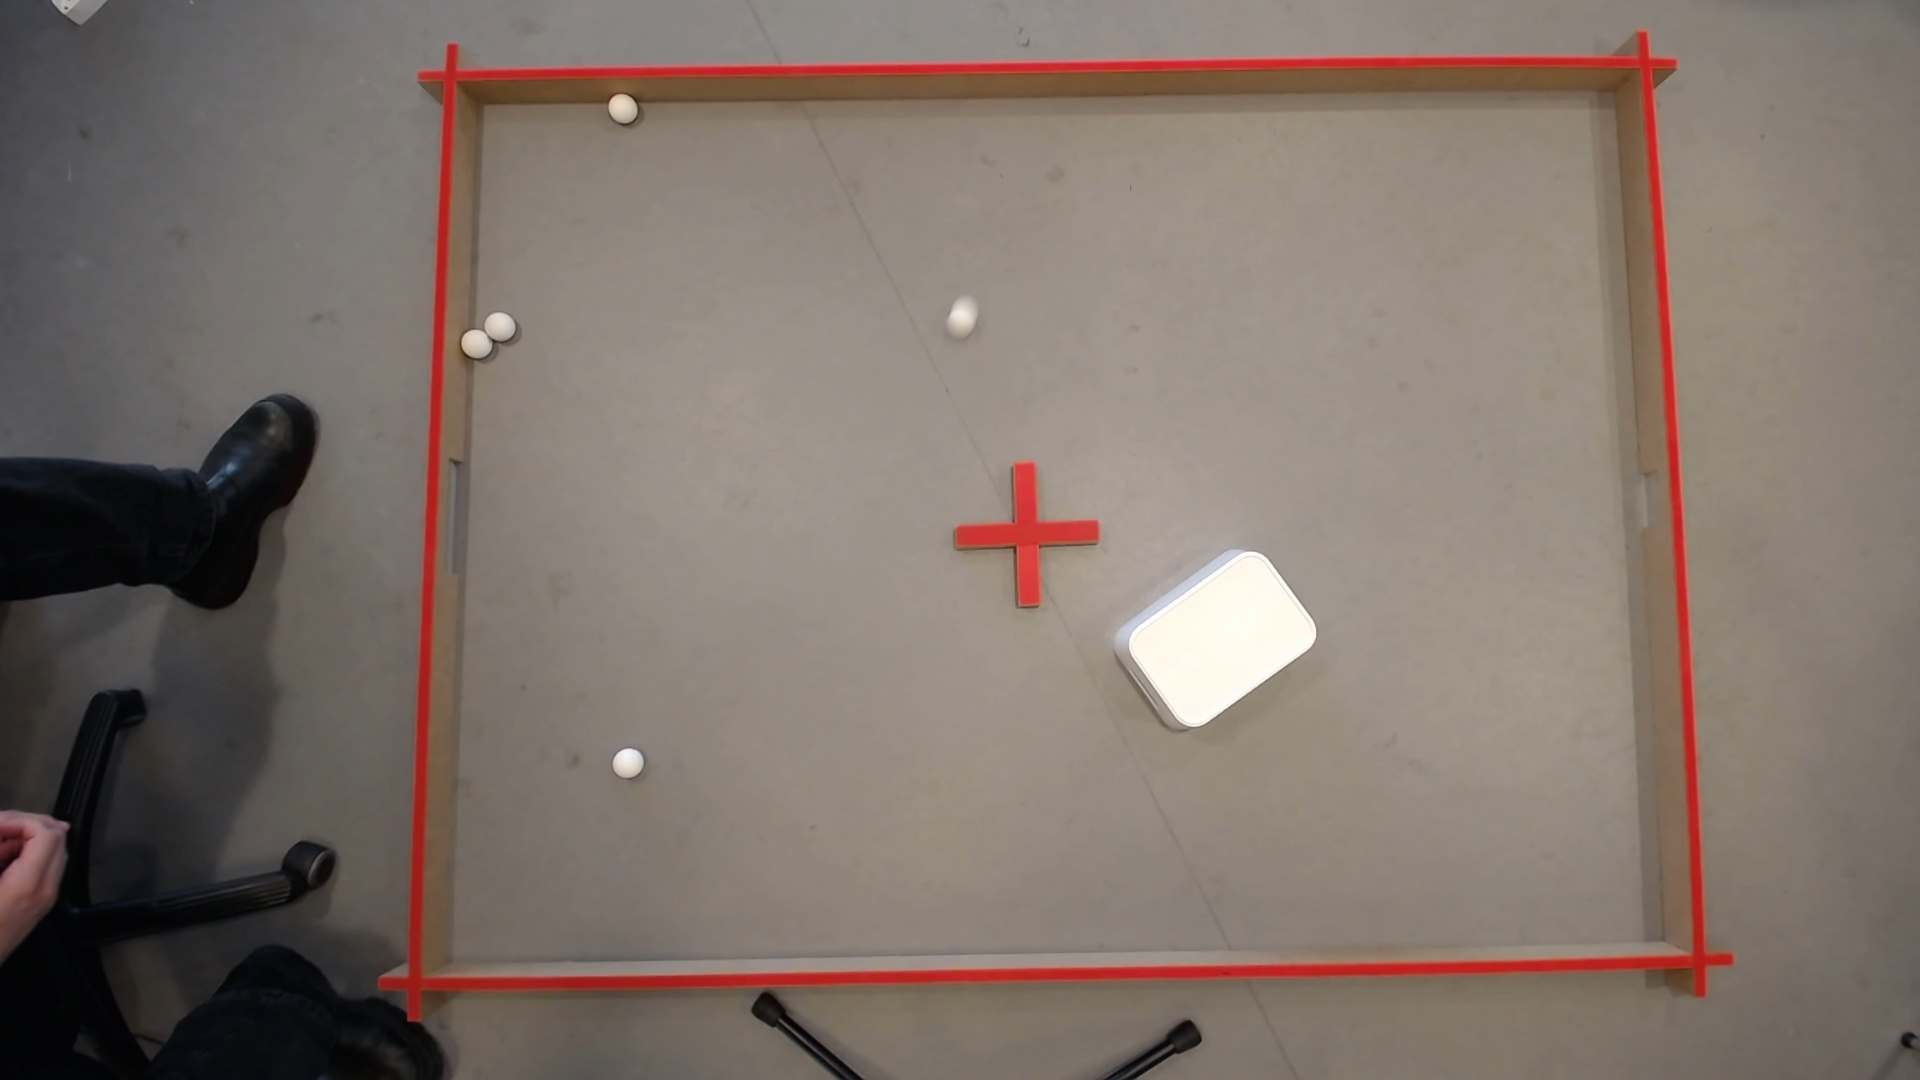balls: (1113, 533, 1325, 736), (608, 741, 646, 779), (947, 298, 977, 330), (462, 324, 491, 355), (609, 94, 633, 116)
car: (487, 313, 512, 332)
